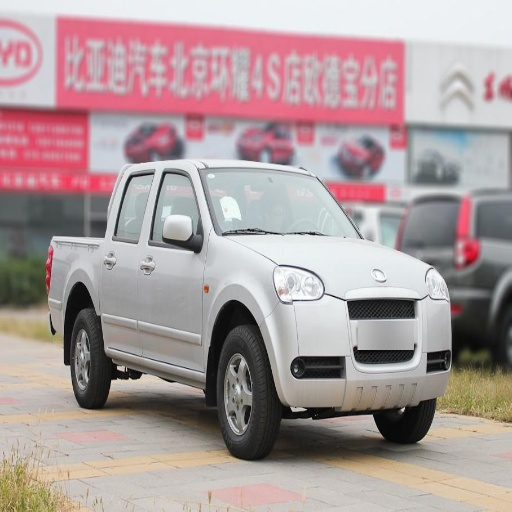front_bumper: (267, 264, 450, 403)
front_right_door: (139, 166, 206, 370)
front_right_light: (275, 266, 325, 301)
tailgate: (346, 247, 399, 297)
trunk: (46, 240, 95, 328)
